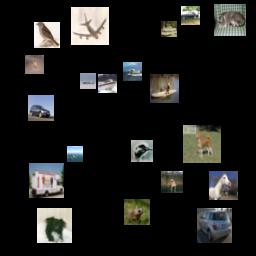airplane: (71, 7, 109, 45), (123, 62, 142, 81), (67, 146, 83, 162)
automobile: (197, 208, 232, 243), (28, 95, 54, 121), (181, 6, 200, 25)
bird: (34, 22, 60, 48), (131, 140, 153, 162)
cat: (214, 4, 246, 36)
deer: (161, 171, 183, 193), (25, 55, 44, 74)
dog: (183, 125, 221, 163), (37, 208, 72, 243)
frog: (124, 199, 150, 225)
ship: (150, 74, 179, 103), (98, 74, 117, 93), (80, 73, 96, 89), (161, 21, 177, 37)
truck: (29, 163, 64, 198)
